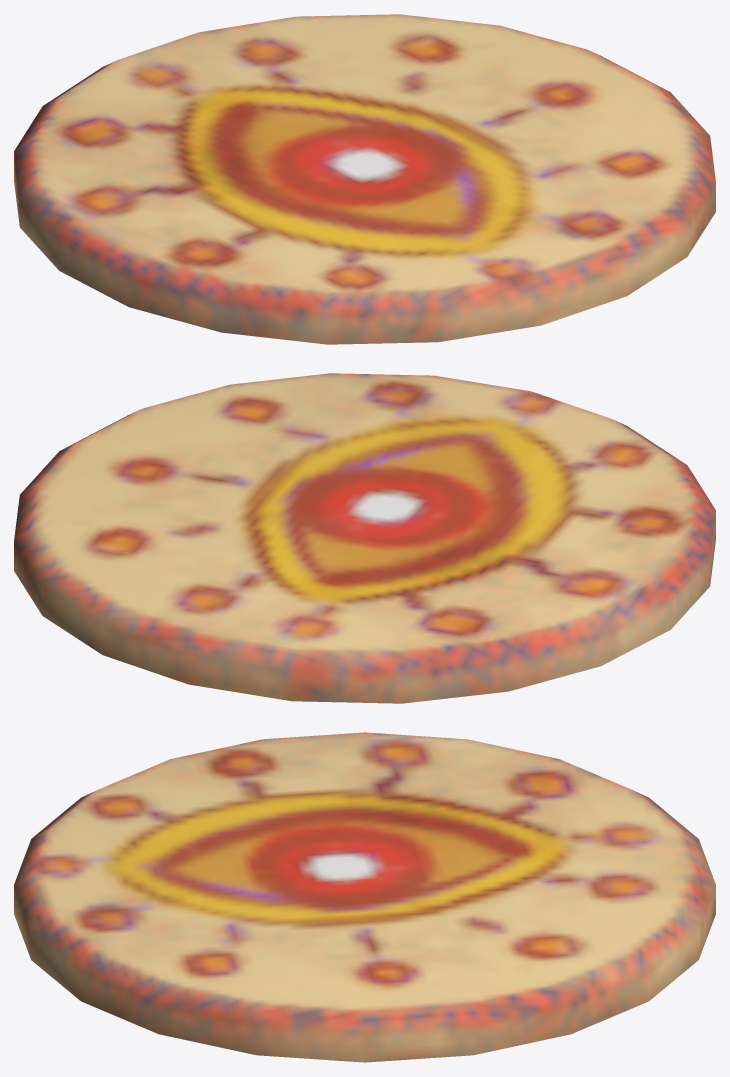
The model's file is SM_Magnets_01.fbx.
The picture shows the model from 3 angles, top to bottom: view 1: azimuth 30°, elevation 25°; view 2: azimuth 150°, elevation 25°; view 3: azimuth 270°, elevation 25°; orthographic projection.
Parts seen in each view (by area): view 1: SM_Magnets_01_LOD0; view 2: SM_Magnets_01_LOD0; view 3: SM_Magnets_01_LOD0.
Boxes of the visible parts, <box> form: SM_Magnets_01_LOD0: <box>14,14,715,344</box>; SM_Magnets_01_LOD0: <box>14,373,715,703</box>; SM_Magnets_01_LOD0: <box>14,732,715,1062</box>.
Size of the model in its own units: 13.76 by 13.76 by 0.9086.
Materials: 1 (1 with a texture image).
